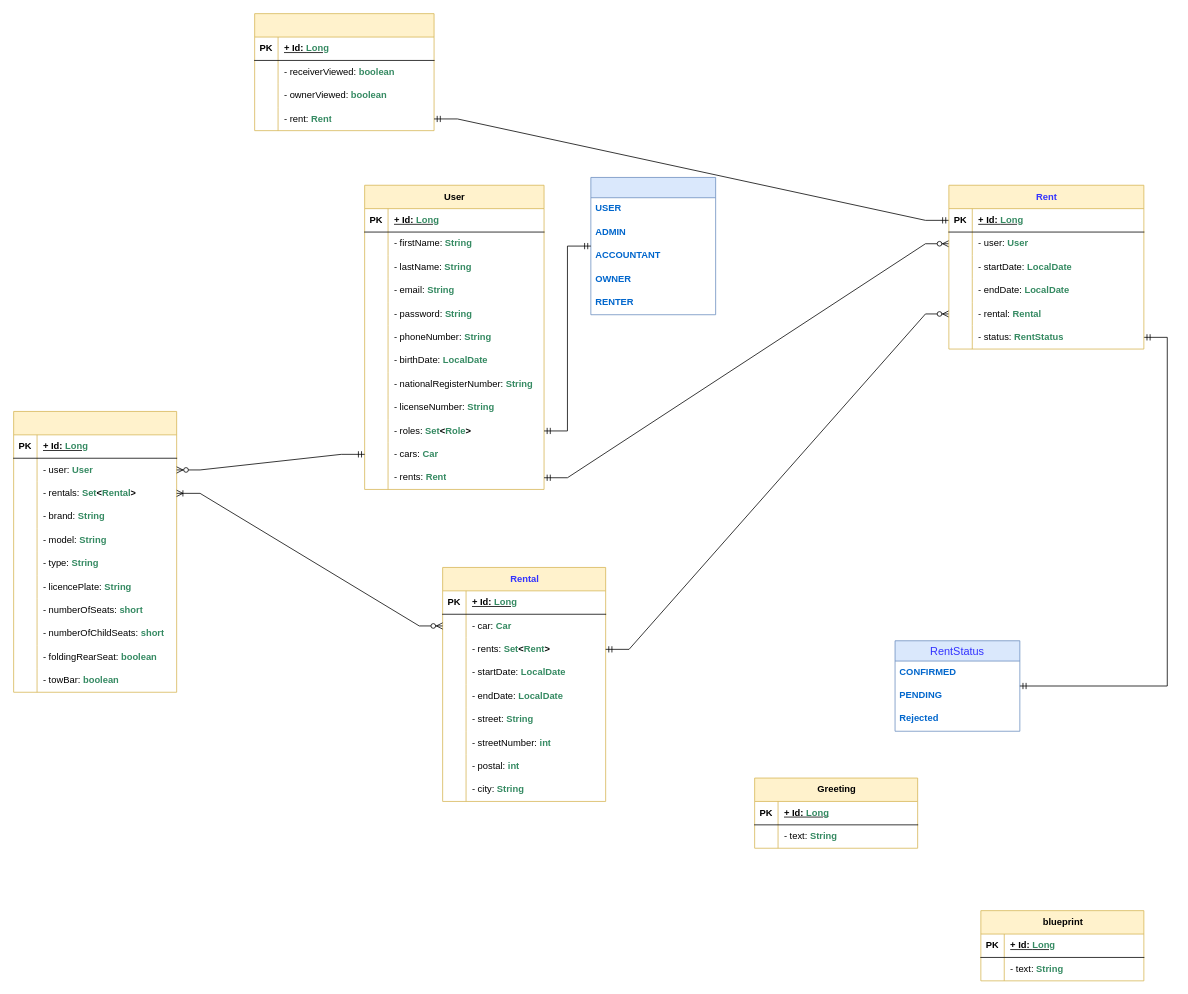
This 1188x994 diagram has some shape labels left out. The shapes that lost their labels are listed below. From the top down, each one's box as (x1, y1, x2, y2) in pixels, then its label:
(254, 13, 434, 131): Notification
(590, 177, 716, 315): Role
(13, 411, 177, 692): Car
